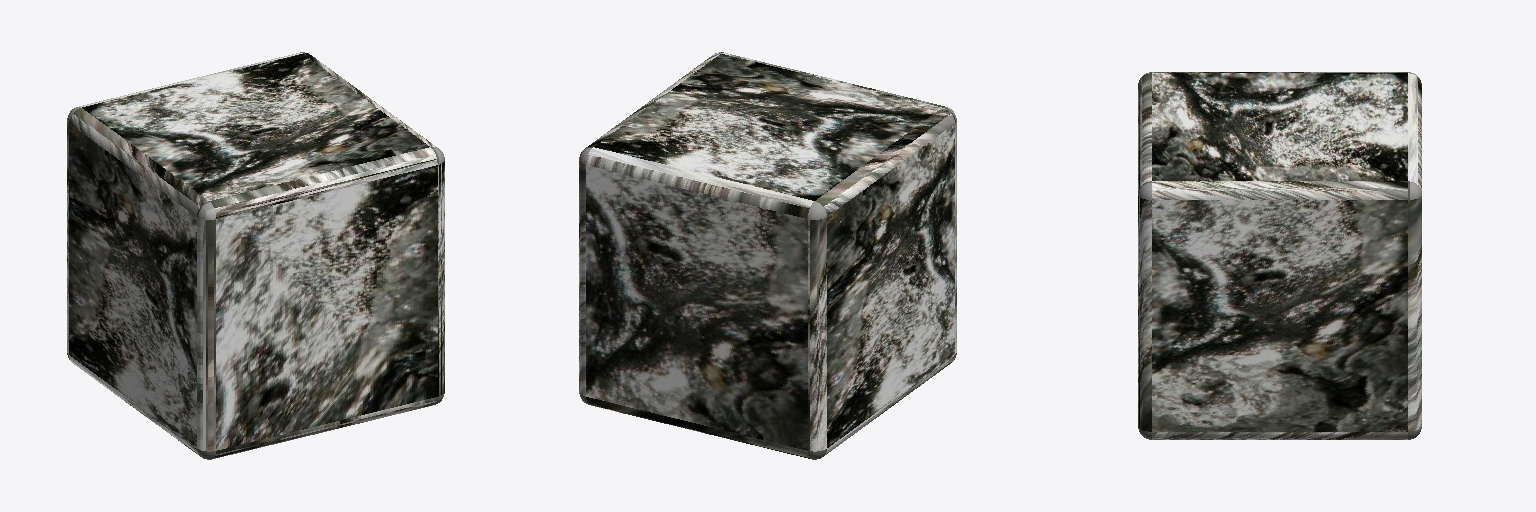
3 views of the same model, side by side, from view 1: azimuth 30°, elevation 25°; view 2: azimuth 150°, elevation 25°; view 3: azimuth 270°, elevation 25° (orthographic).
Visible parts, largest first — view 1: Cube; view 2: Cube; view 3: Cube.
Boxes of the visible parts, <box> form: Cube: <box>67,52,444,459</box>; Cube: <box>579,52,956,459</box>; Cube: <box>1138,72,1421,439</box>.
Bounding box in the file's own units: 2 × 2 × 2.
Materials: 1 (1 with a texture image).